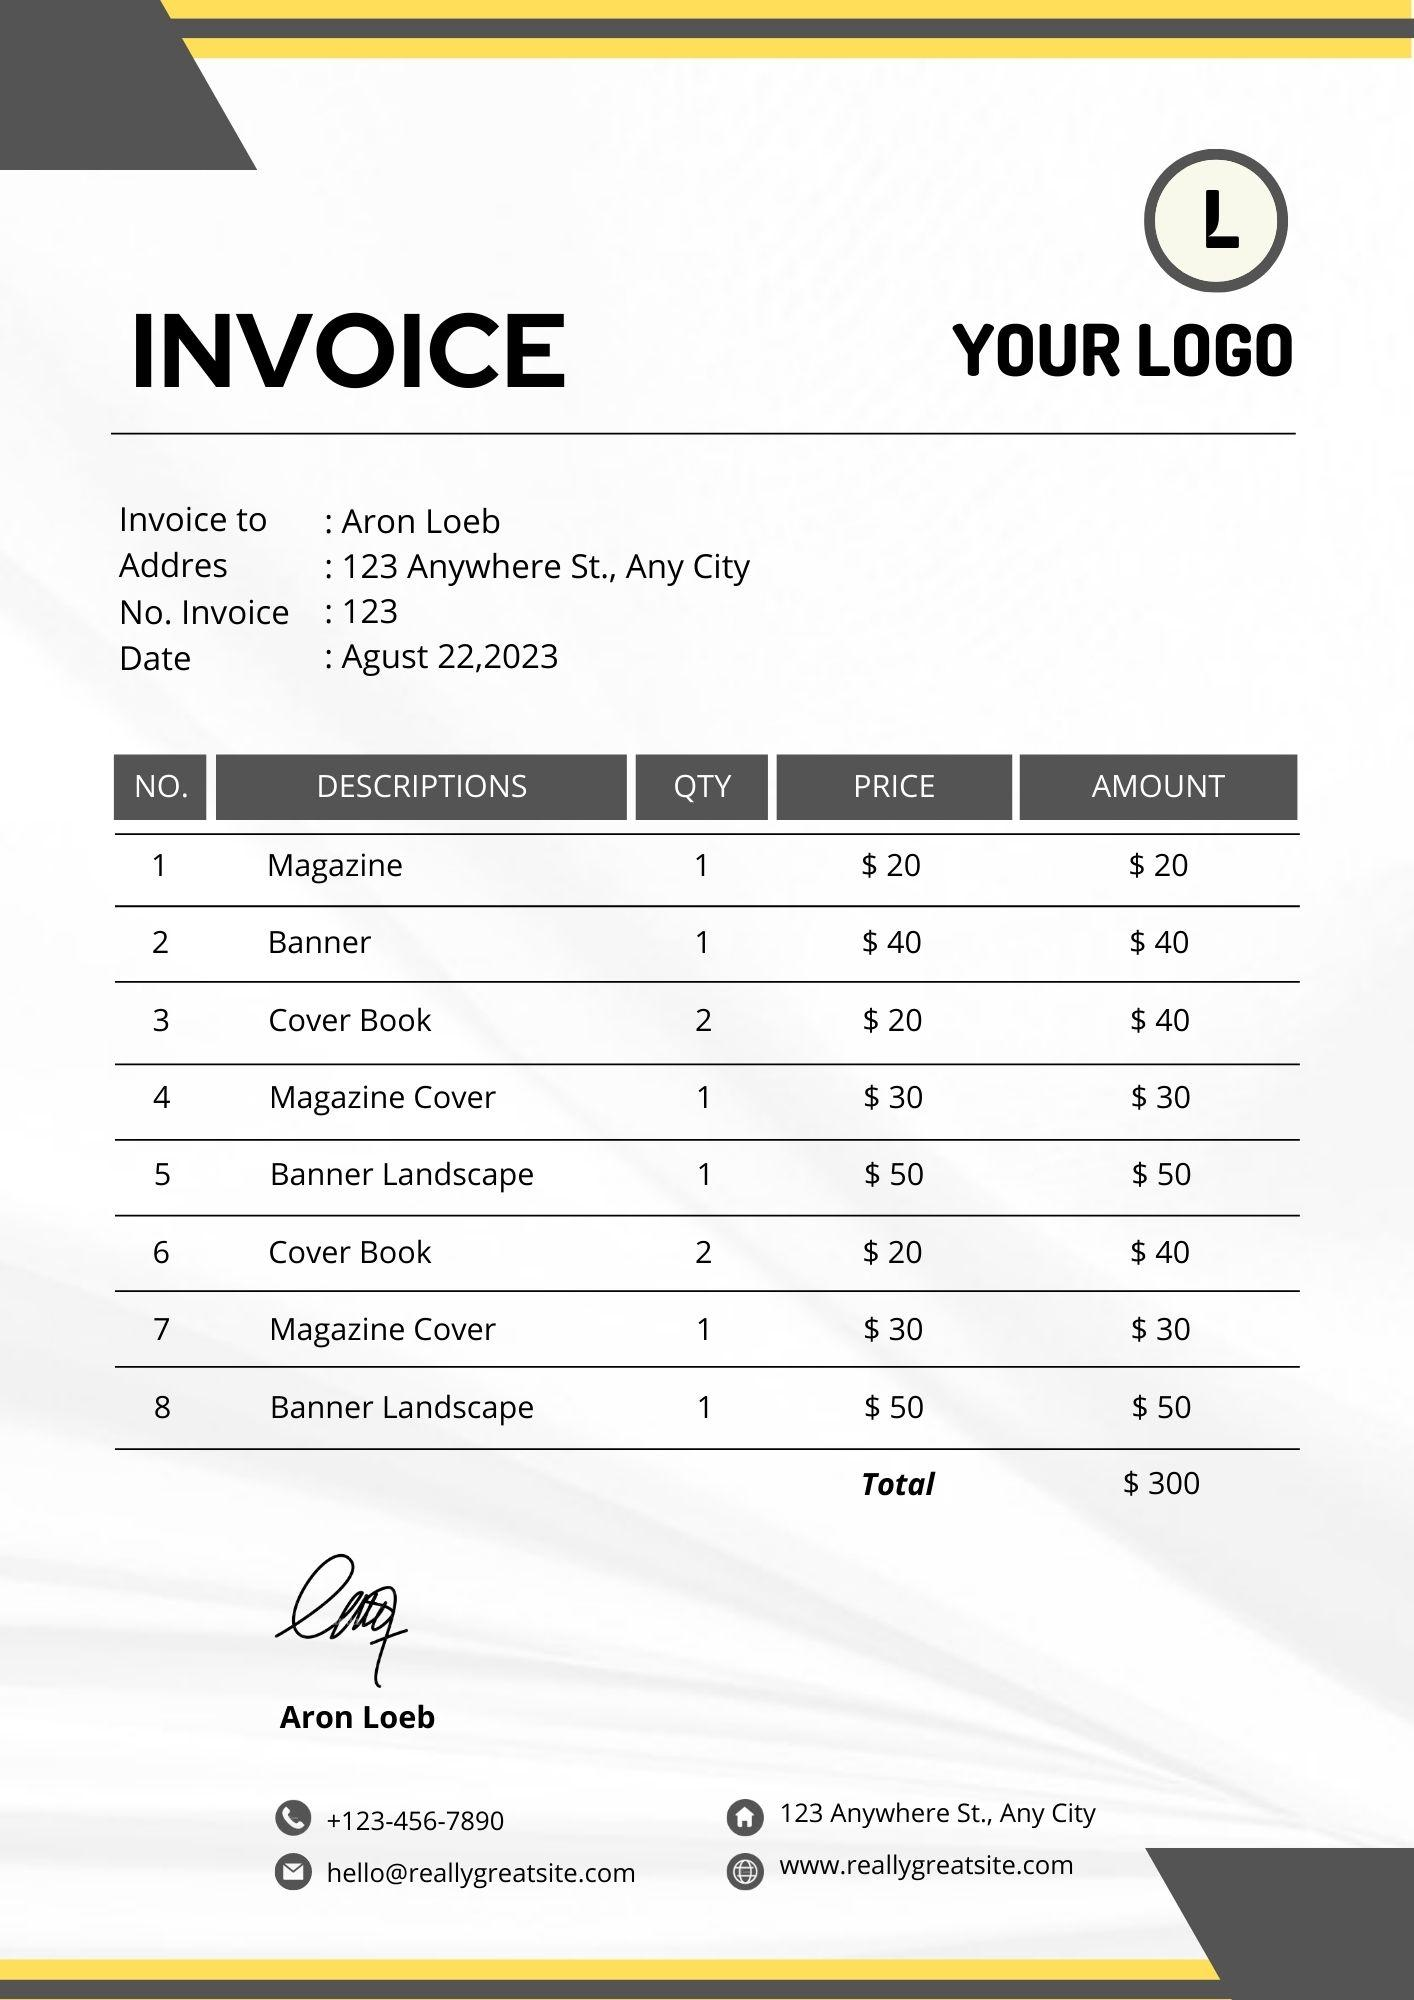ROI: (102, 745, 1311, 1462)
